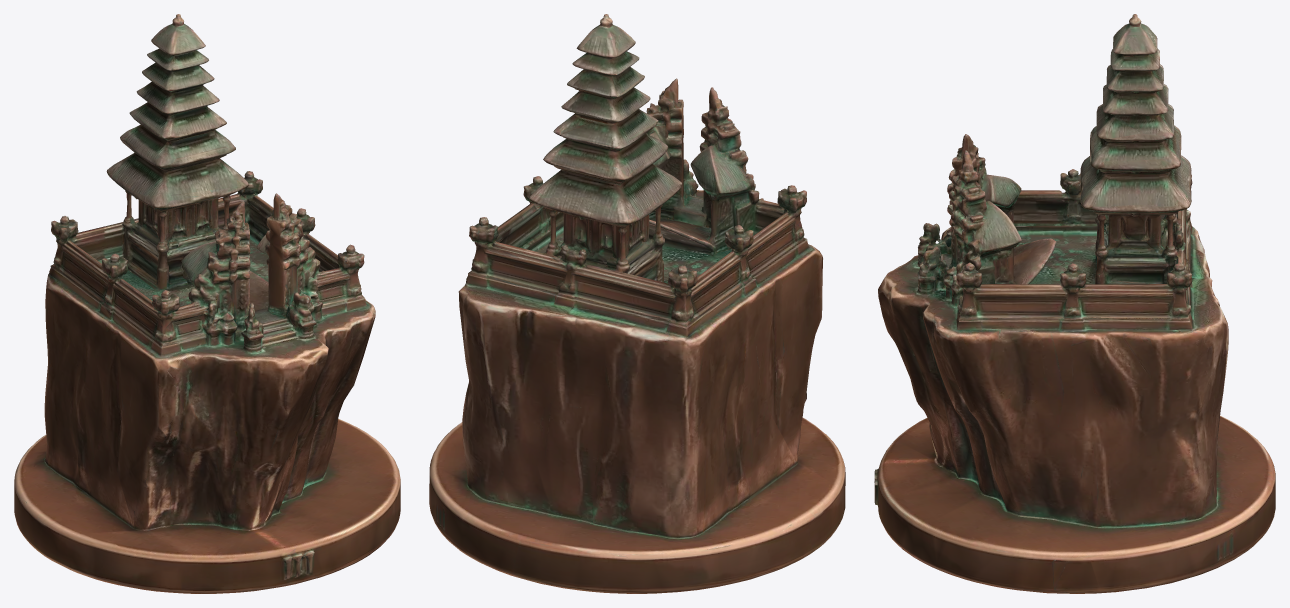
Rendered from bali_uluwatu.glb.
The picture shows the model from 3 angles, left to right: view 1: azimuth 30°, elevation 25°; view 2: azimuth 150°, elevation 25°; view 3: azimuth 270°, elevation 25°; orthographic projection. The views are drawn at different scales.
Visible parts, largest first — view 1: Mesh_0; view 2: Mesh_0; view 3: Mesh_0.
Part boxes in pixels (box(x1,y1,x2,y2)): Mesh_0: box(14, 14, 400, 593); Mesh_0: box(429, 14, 845, 593); Mesh_0: box(874, 14, 1275, 593).
Size of the model in its own units: 1.4 by 1.91 by 1.4.
Materials: 1 (1 with a texture image).
